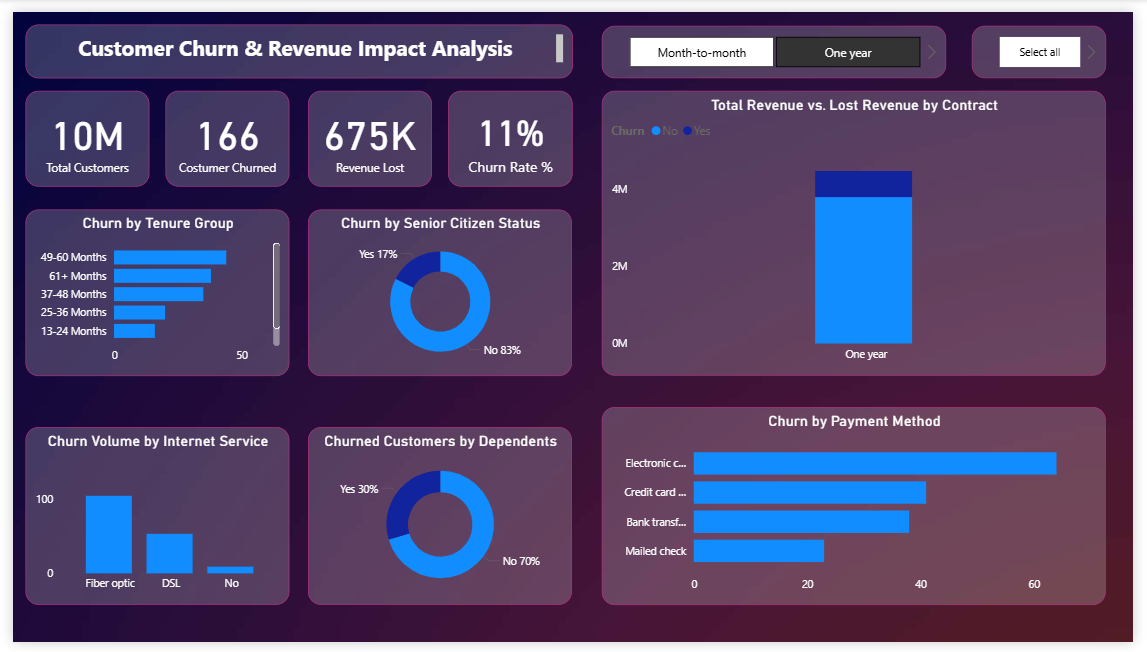

The page's visual inventory and layout, read from the dashboard file:
{"tool":"powerbi","page":{"name":"Page 1","canvas":[1280,720],"ordinal":0},"visuals":[{"type":"columnChart","title":"Total Revenue vs. Lost Revenue by Contract","fields":{"Category":["churn_analysis telco_churn.Contract"],"Y":["Sum(churn_analysis telco_churn.TotalCharges)"],"Series":["churn_analysis telco_churn.Churn"]},"box":[672.4,90.6,576.3,325.2],"z":0},{"type":"clusteredBarChart","title":"Churn by Payment Method","fields":{"Category":["churn_analysis telco_churn.PaymentMethod"],"Y":["CountNonNull(churn_analysis telco_churn.customerID)"]},"box":[672.4,451.5,576.3,226.4],"z":1000},{"type":"textbox","box":[13.7,13.7,625.7,61.7],"z":2000},{"type":"card","fields":{"Values":["Sum(churn_analysis telco_churn.Total Customers)"]},"box":[13.7,90.6,141.3,109.8],"z":3000},{"type":"card","fields":{"Values":["churn_analysis telco_churn.Churn Rate %"]},"box":[496.7,90.6,142.7,109.8],"z":4000},{"type":"card","fields":{"Values":["CountNonNull(churn_analysis telco_churn.customerID)"]},"box":[174.3,90.6,141.3,109.8],"z":5000},{"type":"card","fields":{"Values":["Sum(churn_analysis telco_churn.TotalCharges)"]},"box":[337.6,90.6,141.3,109.8],"z":6000},{"type":"donutChart","title":"Churned Customers by Dependents","fields":{"Category":["churn_analysis telco_churn.Dependents"],"Y":["CountNonNull(churn_analysis telco_churn.customerID)"]},"box":[337.6,474.8,301.9,203.1],"z":7000},{"type":"columnChart","title":"Churn Volume by Internet Service","fields":{"Category":["churn_analysis telco_churn.InternetService"],"Y":["CountNonNull(churn_analysis telco_churn.customerID)"]},"box":[13.7,474.8,301.9,203.1],"z":8000},{"type":"donutChart","title":"Churn by Senior Citizen Status","fields":{"Category":["churn_analysis telco_churn.SeniorCitizen_Text"],"Y":["CountNonNull(churn_analysis telco_churn.customerID)"]},"box":[337.6,225,301.9,190.7],"z":9000},{"type":"barChart","title":"Churn by Tenure Group","fields":{"Y":["CountNonNull(churn_analysis telco_churn.customerID)"],"Category":["churn_analysis telco_churn.tenure_group"]},"box":[13.7,225,301.9,190.7],"z":10000},{"type":"slicer","fields":{"Values":["churn_analysis telco_churn.Contract"]},"box":[672.4,15.1,393.8,60.4],"z":11000},{"type":"slicer","fields":{"Values":["churn_analysis telco_churn.InternetService"]},"box":[1095,15.1,153.7,60.4],"z":12000}]}

Visuals, with their boxes in screenshot pixels (x1, y1, x2, y2), scaled from the page's 1280x720 canvas onto the 1147x652 screenshot:
"Total Revenue vs. Lost Revenue by Contract" columnChart: [603,82,1119,377]
"Churn by Payment Method" clusteredBarChart: [603,409,1119,614]
textbox: [12,12,573,68]
card - Sum(churn_analysis telco_churn.Total Customers): [12,82,139,181]
card - churn_analysis telco_churn.Churn Rate %: [445,82,573,181]
card - CountNonNull(churn_analysis telco_churn.customerID): [156,82,283,181]
card - Sum(churn_analysis telco_churn.TotalCharges): [303,82,429,181]
"Churned Customers by Dependents" donutChart: [303,430,573,614]
"Churn Volume by Internet Service" columnChart: [12,430,283,614]
"Churn by Senior Citizen Status" donutChart: [303,204,573,376]
"Churn by Tenure Group" barChart: [12,204,283,376]
slicer - churn_analysis telco_churn.Contract: [603,14,955,68]
slicer - churn_analysis telco_churn.InternetService: [981,14,1119,68]
